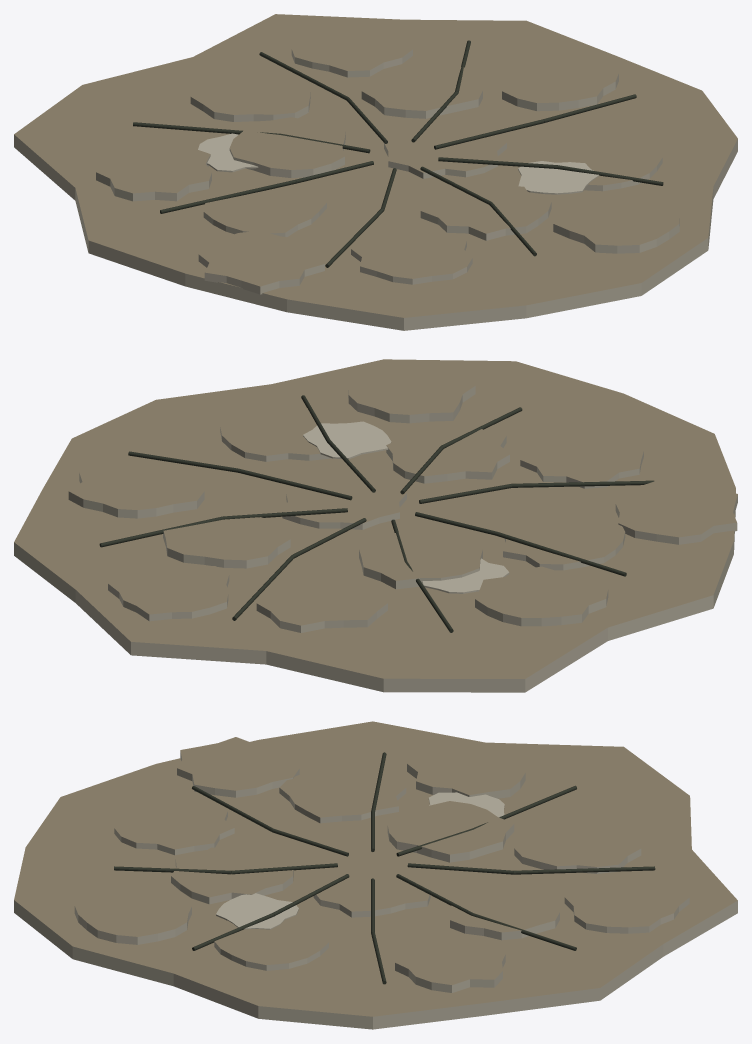
File: Lakebed_Cracked_Flat_Cleared.glb
3 renders of one model, top to bottom at view 1: azimuth 30°, elevation 25°; view 2: azimuth 150°, elevation 25°; view 3: azimuth 270°, elevation 25°, orthographic. The views are drawn at different scales.
Parts seen in each view (by area): view 1: Structure; view 2: Structure; view 3: Structure.
Boxes of the visible parts, x1,y1,x2,y2 form: Structure: [14, 14, 737, 330]; Structure: [14, 359, 737, 692]; Structure: [14, 721, 737, 1029].
Bounding box in the file's own units: 5.95 × 0.212 × 6.16.
